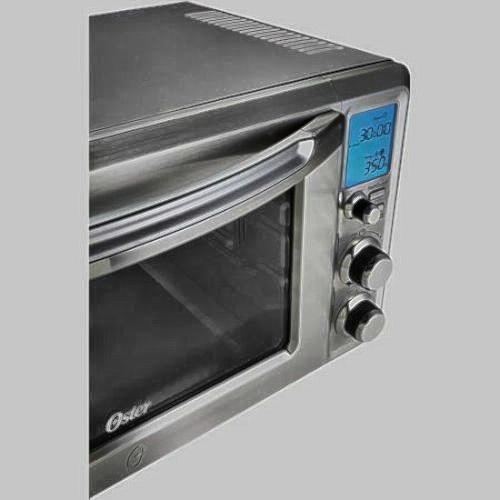toaster: (74, 9, 395, 467)
